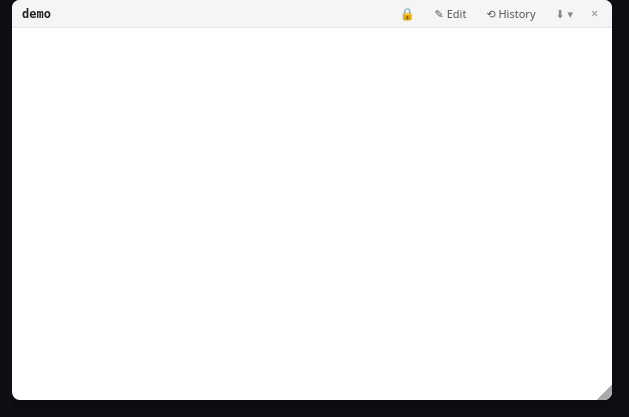
Test: Tile inline editor (Issue #6) › Edit button toggles the editor; load fills the textarea
Toggle on
Click the button with test id "tile-edit-toggle": (450,14) [429,4,472,23]
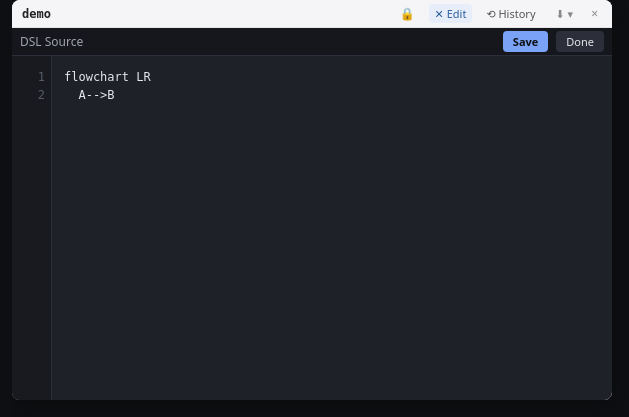
Toggle off — textarea unmounts
Click the button with test id "tile-edit-toggle": (450,14) [429,4,472,23]
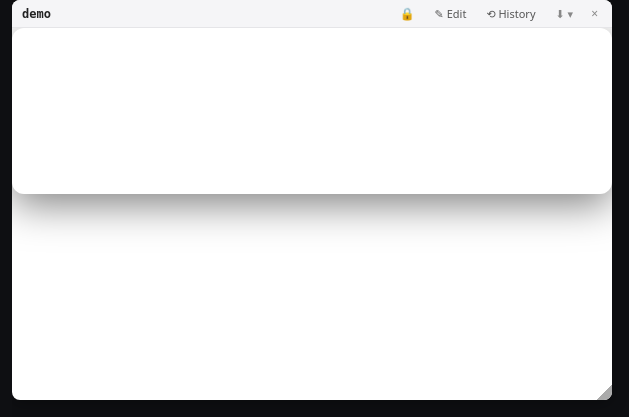
Check: the text "DSL Source" is gone
